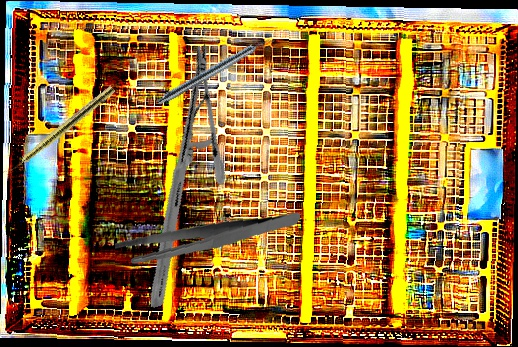Dressing Forceps: (114, 199, 300, 276)
Handpiece: (1, 83, 117, 180), (155, 33, 276, 109)
Needle Holder: (76, 43, 283, 309)
